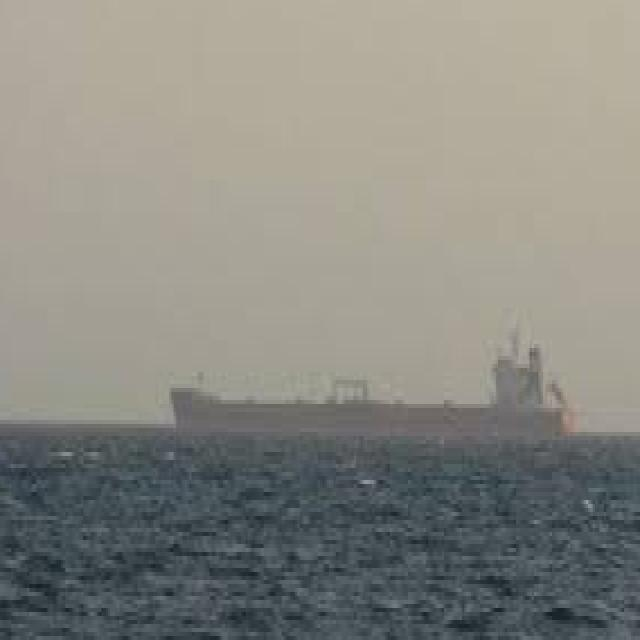cargoship: (163, 321, 575, 442)
